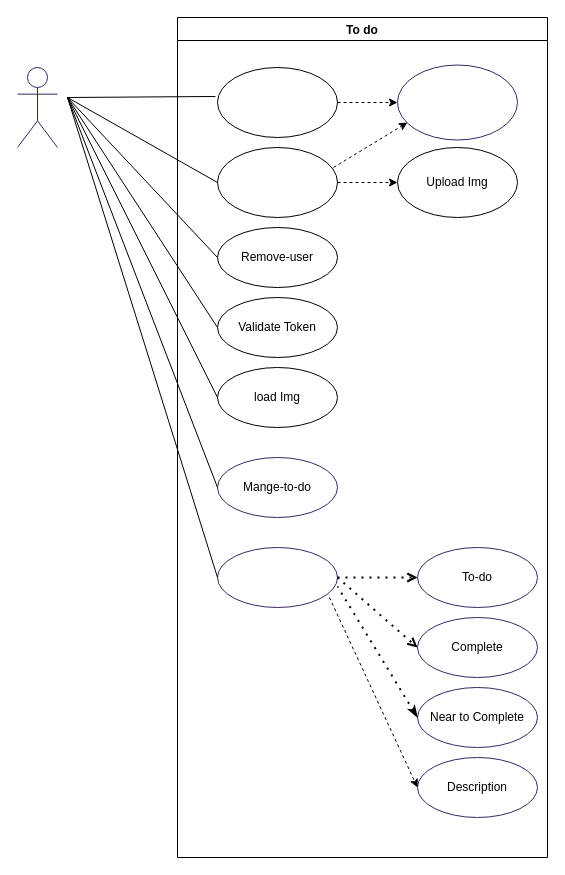
Some shapes in this 565 by 875 pixel diagram are drawn without their labels. Each missing label, with the box of its shape:
Actor: (16, 66, 58, 148)
Create Token: (396, 64, 518, 140)
Search By: (216, 546, 338, 608)
Sign-in: (216, 66, 338, 138)
SIgnUp: (216, 146, 338, 218)
